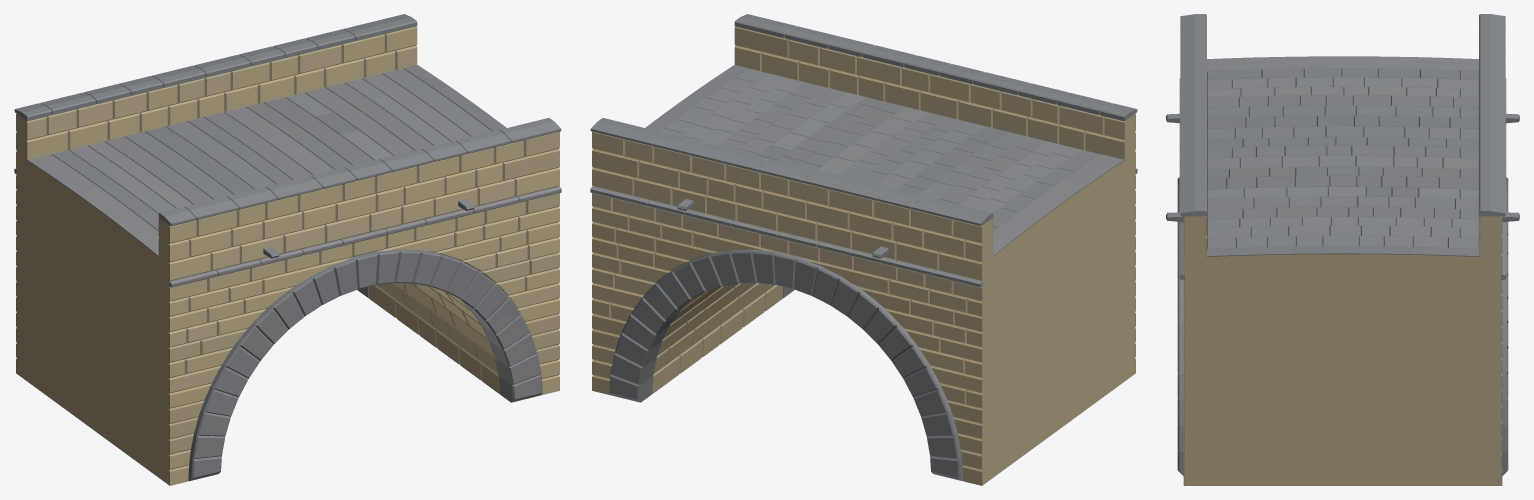
The model's file is b6-bridge-bay-12000-r2.glb.
3 renders of one model, left to right at view 1: azimuth 30°, elevation 25°; view 2: azimuth 150°, elevation 25°; view 3: azimuth 270°, elevation 25°, orthographic. The views are drawn at different scales.
Parts seen in each view (by area): view 1: Mesh_BayLimestone, Mesh_BayGranite; view 2: Mesh_BayLimestone, Mesh_BayGranite; view 3: Mesh_BayLimestone, Mesh_BayGranite.
Part boxes in pixels (left/top/right/bottom): Mesh_BayLimestone: left=16, top=26, right=559, bottom=485; Mesh_BayGranite: left=14, top=14, right=561, bottom=481; Mesh_BayLimestone: left=592, top=26, right=1135, bottom=485; Mesh_BayGranite: left=590, top=14, right=1137, bottom=481; Mesh_BayLimestone: left=1183, top=216, right=1502, bottom=485; Mesh_BayGranite: left=1166, top=14, right=1519, bottom=475.
Bounding box in the file's own units: 12 × 7.8 × 9.1.
